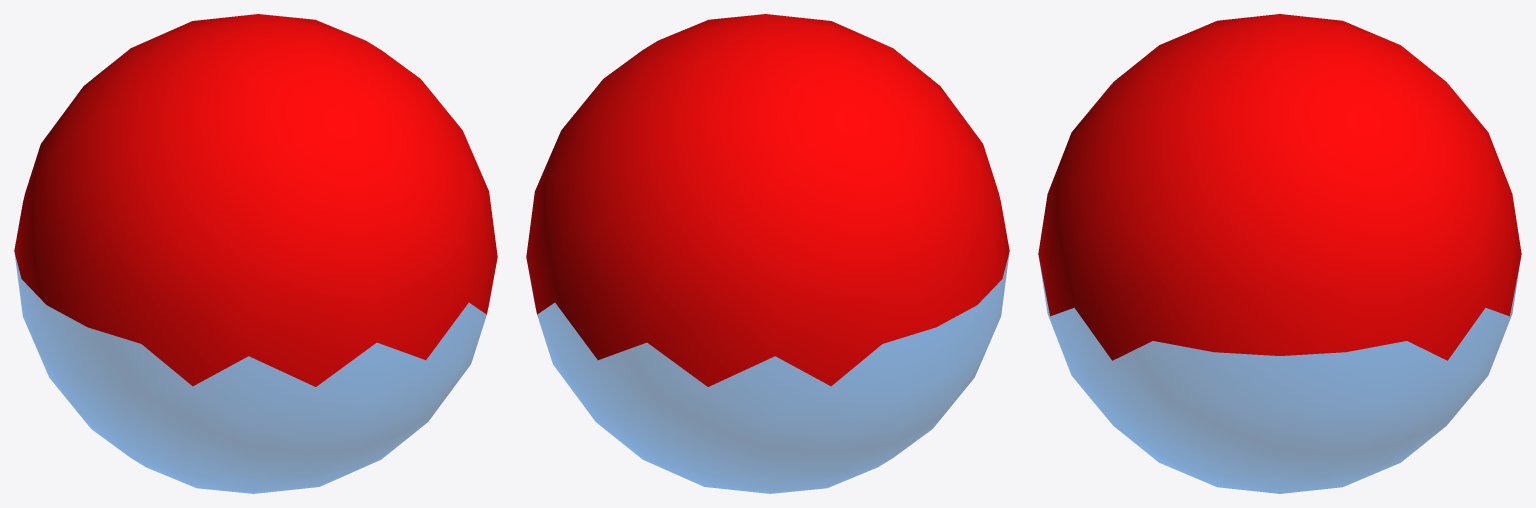
File: MultipleMaterialsTest.gltf
3 renders of one model, left to right at view 1: azimuth 30°, elevation 25°; view 2: azimuth 150°, elevation 25°; view 3: azimuth 270°, elevation 25°, orthographic.
Visible parts, largest first — view 1: SphereTwoPrimitives; view 2: SphereTwoPrimitives; view 3: SphereTwoPrimitives.
Boxes of the visible parts, bbox=[...] form: SphereTwoPrimitives: bbox=[14, 14, 497, 493]; SphereTwoPrimitives: bbox=[526, 14, 1009, 493]; SphereTwoPrimitives: bbox=[1038, 14, 1521, 493].
Size of the model in its own units: 2 by 2 by 2.
